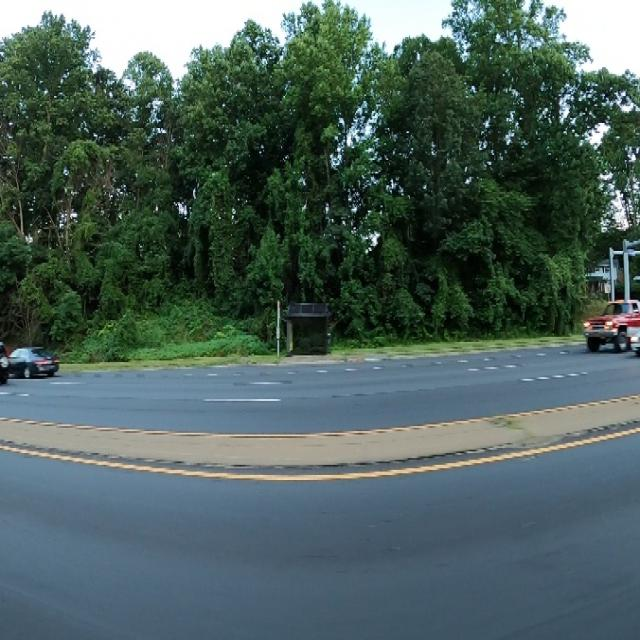cars: (584, 296, 638, 350), (4, 340, 60, 380), (1, 337, 9, 383), (629, 327, 640, 358)
